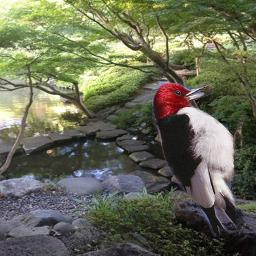Woodpecker: (152, 82, 248, 237)
